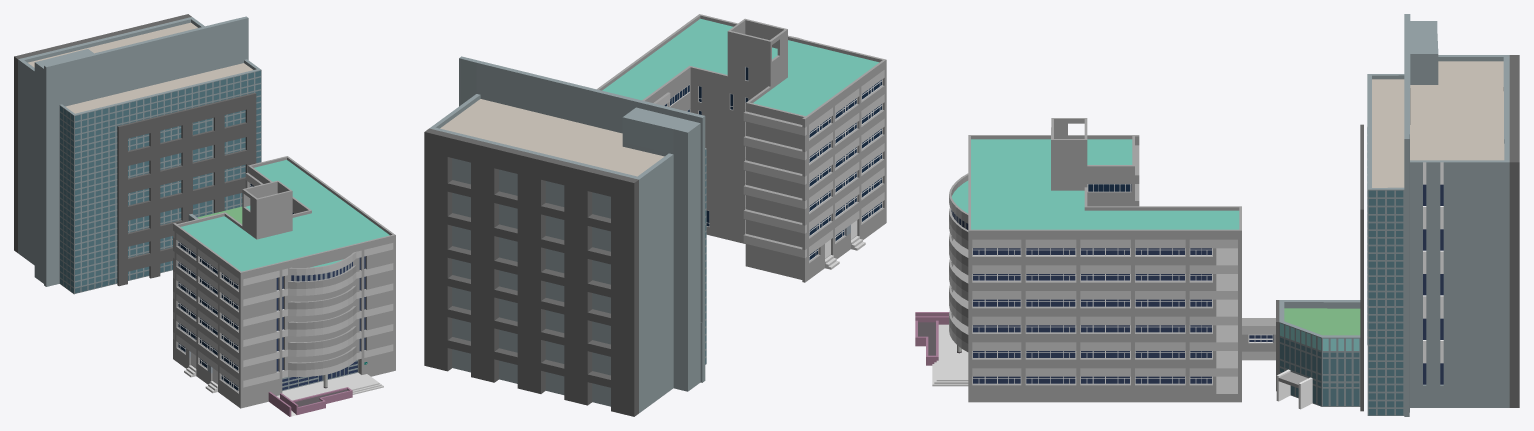
File: Building_H_N.fbx
The picture shows the model from 3 angles, left to right: view 1: azimuth 30°, elevation 25°; view 2: azimuth 150°, elevation 25°; view 3: azimuth 270°, elevation 25°; orthographic projection. The views are drawn at different scales.
Visible parts, largest first — view 1: Building_H_N; view 2: Building_H_N; view 3: Building_H_N.
Part boxes in pixels (bbox=[...]): Building_H_N: bbox=[14, 14, 395, 416]; Building_H_N: bbox=[424, 14, 886, 416]; Building_H_N: bbox=[915, 14, 1519, 416].
Bounding box in the file's own units: 36.34 × 37.86 × 74.29.
